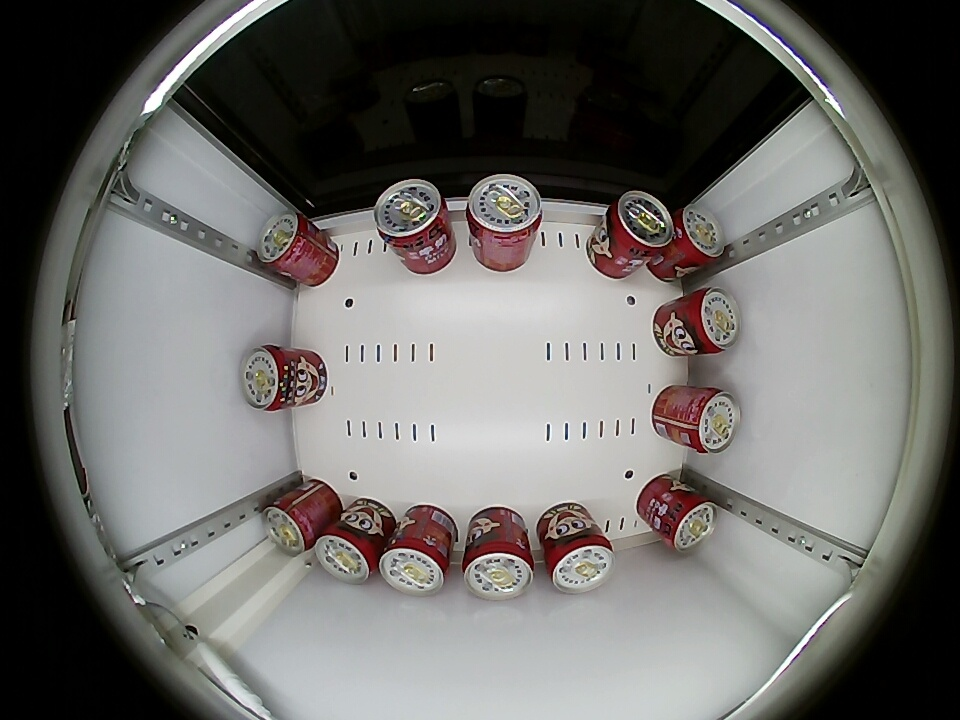wangzainiunai: (373, 178, 454, 260), (465, 173, 544, 257), (597, 190, 673, 267), (541, 519, 616, 594), (462, 526, 535, 600), (379, 526, 452, 596), (314, 514, 381, 585), (672, 386, 740, 455), (260, 488, 326, 557), (677, 286, 740, 356), (656, 483, 718, 553), (666, 202, 726, 273), (255, 211, 317, 276), (241, 345, 299, 412)
